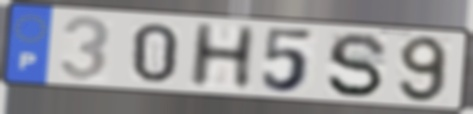0: (129, 22, 184, 85)
3: (57, 14, 117, 84)
5: (259, 27, 318, 96)
9: (396, 34, 454, 105)
H: (185, 21, 260, 89)
S: (324, 31, 391, 100)
